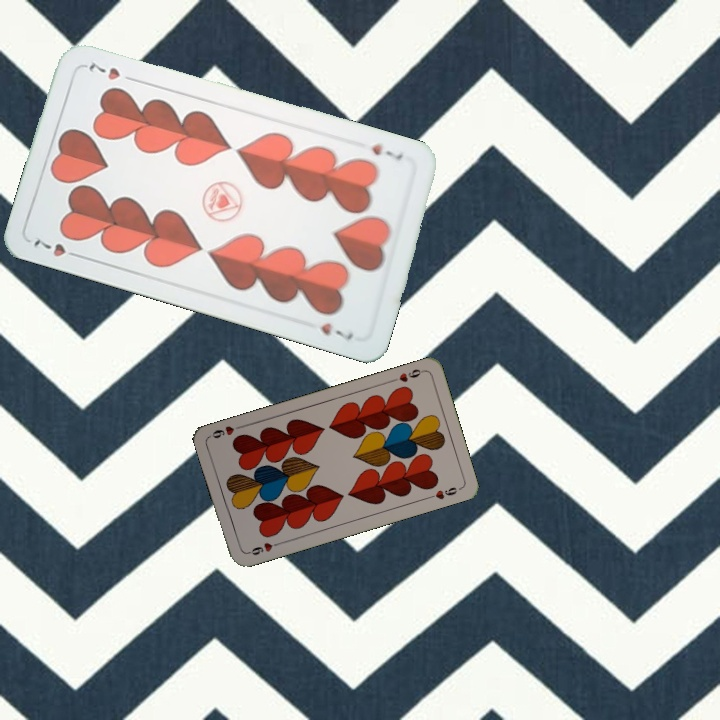H7: (29, 234, 85, 261), (367, 139, 406, 164)
H9: (387, 365, 427, 385), (243, 538, 282, 558)
